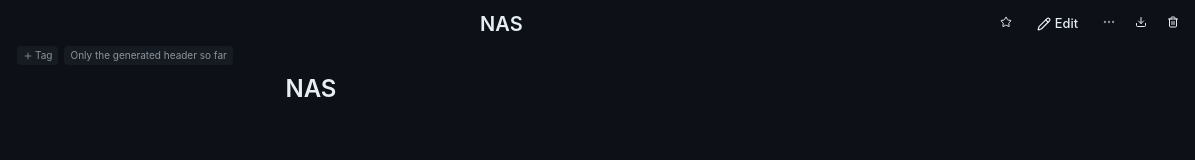
Test: DocViewer — tags › offers the field back after a tag is added
Click the button "Tag" at {"x": 38, "y": 56}, box [17, 46, 58, 65]
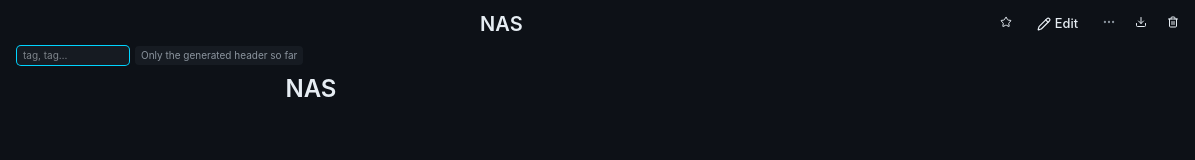
Type "backup" into the field named "New tag" at {"x": 73, "y": 56}, box [17, 46, 129, 65]
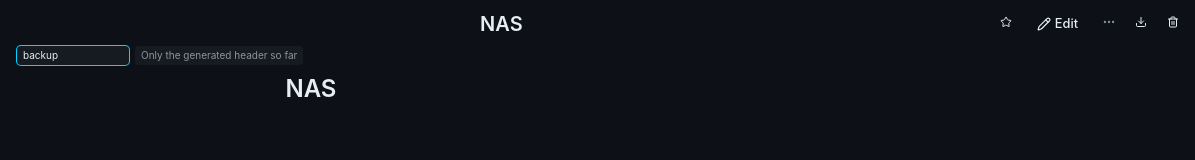
Press Enter in the field named "New tag", box [17, 46, 129, 65]
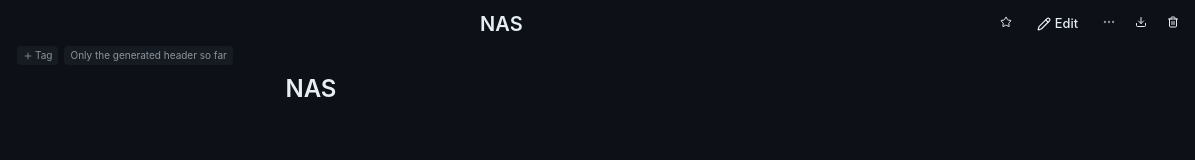
Check: the button "Tag" is shown, box [17, 46, 58, 65]
